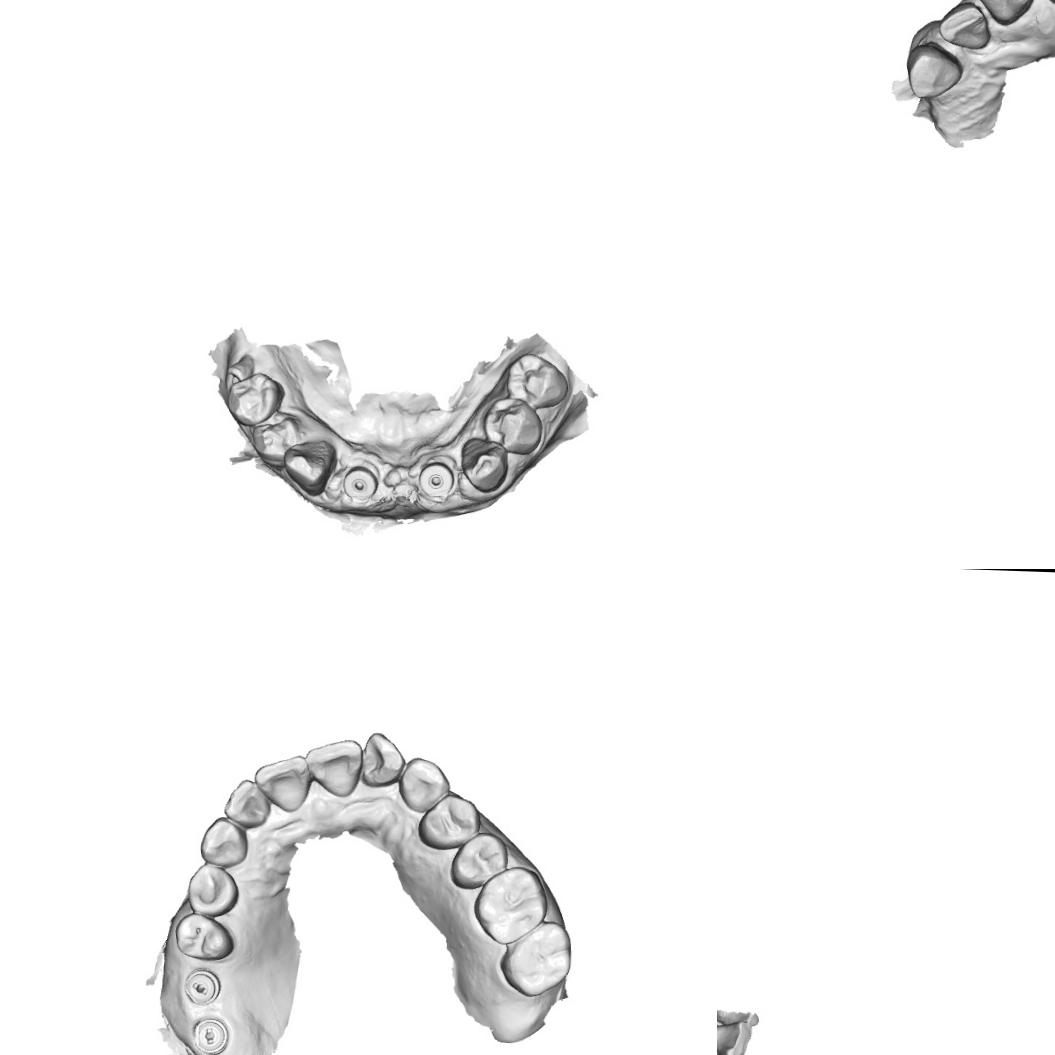canine: (902, 41, 965, 102), (280, 434, 336, 498), (396, 754, 451, 814), (458, 434, 510, 496), (198, 814, 250, 868)
implant: (416, 459, 458, 500), (340, 464, 379, 508)
implant_minus: (182, 966, 222, 1006), (192, 1016, 230, 1054)
incisor: (303, 737, 364, 798), (253, 752, 313, 814), (936, 0, 994, 51), (358, 730, 407, 789), (222, 778, 273, 832), (970, 0, 1038, 29), (717, 1017, 752, 1055)
molar: (470, 864, 550, 946), (498, 918, 573, 1000)
premolar: (481, 394, 545, 458), (416, 792, 483, 853), (504, 354, 572, 412), (222, 369, 285, 431), (448, 830, 509, 891), (247, 411, 304, 475), (172, 911, 236, 962), (185, 863, 240, 918)
